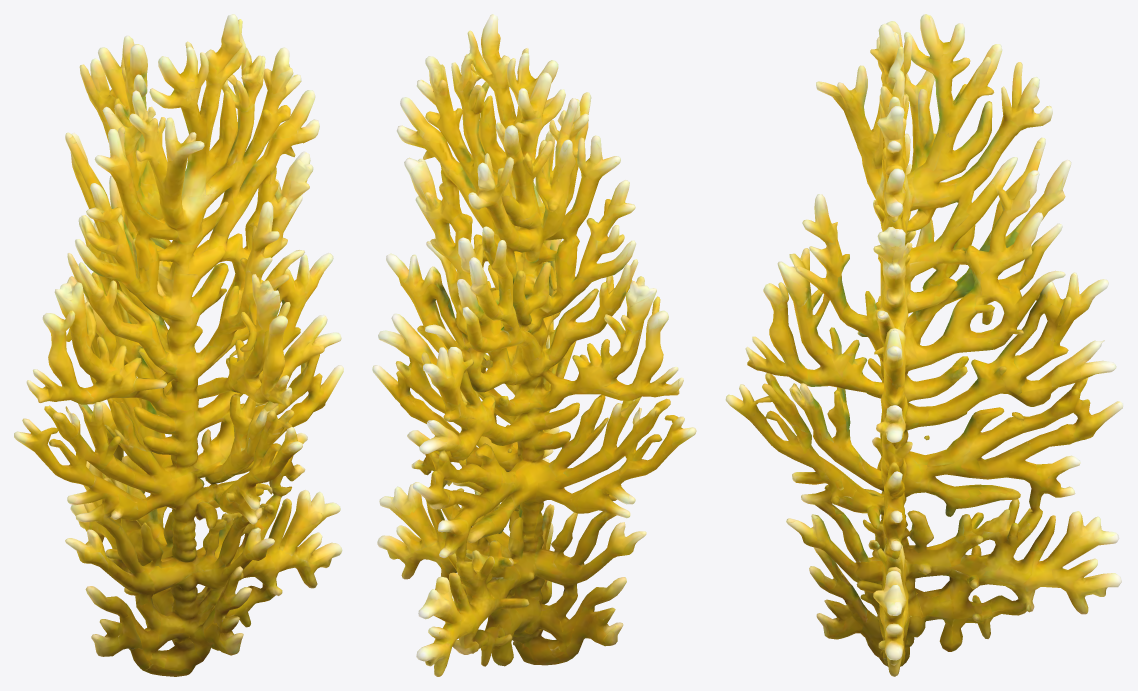
File: millepora.glb
3 views of the same model, side by side, from view 1: azimuth 30°, elevation 25°; view 2: azimuth 150°, elevation 25°; view 3: azimuth 270°, elevation 25° (orthographic). The views are drawn at different scales.
Bounding box in the file's own units: 1.01 × 1.9 × 1.03.
Materials: 1 (1 with a texture image).
